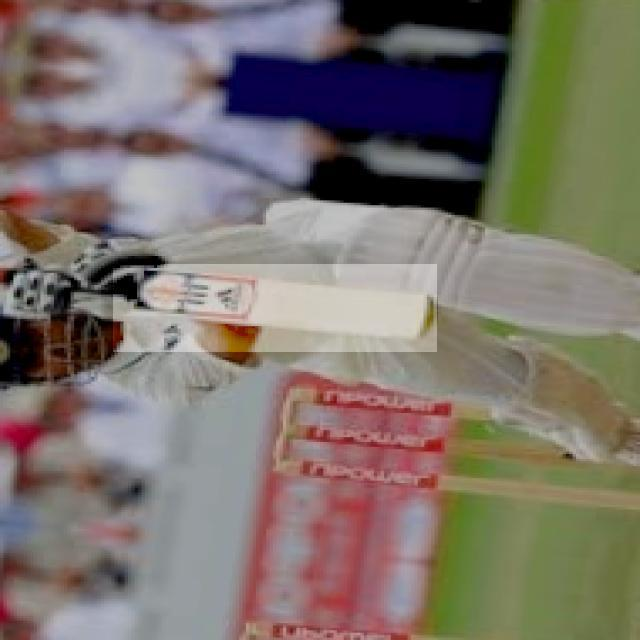bat: (110, 265, 439, 356)
toe: (419, 298, 436, 339)
